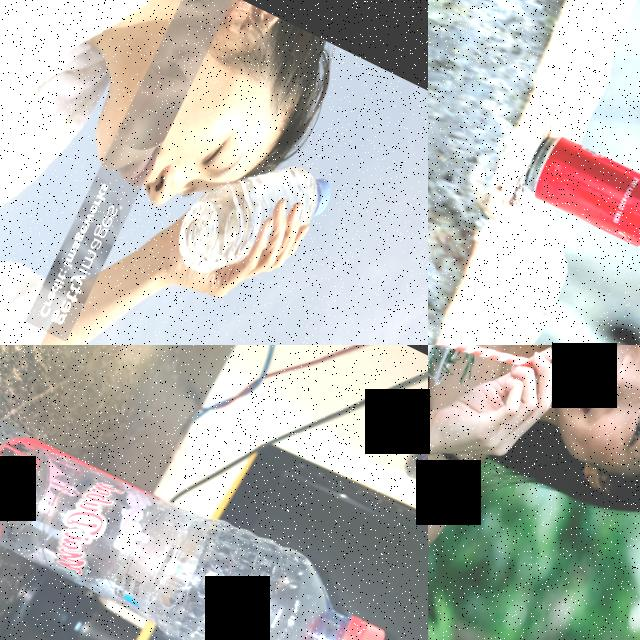bottle: (0, 345, 418, 640), (162, 130, 338, 312)
can: (517, 127, 640, 327)
